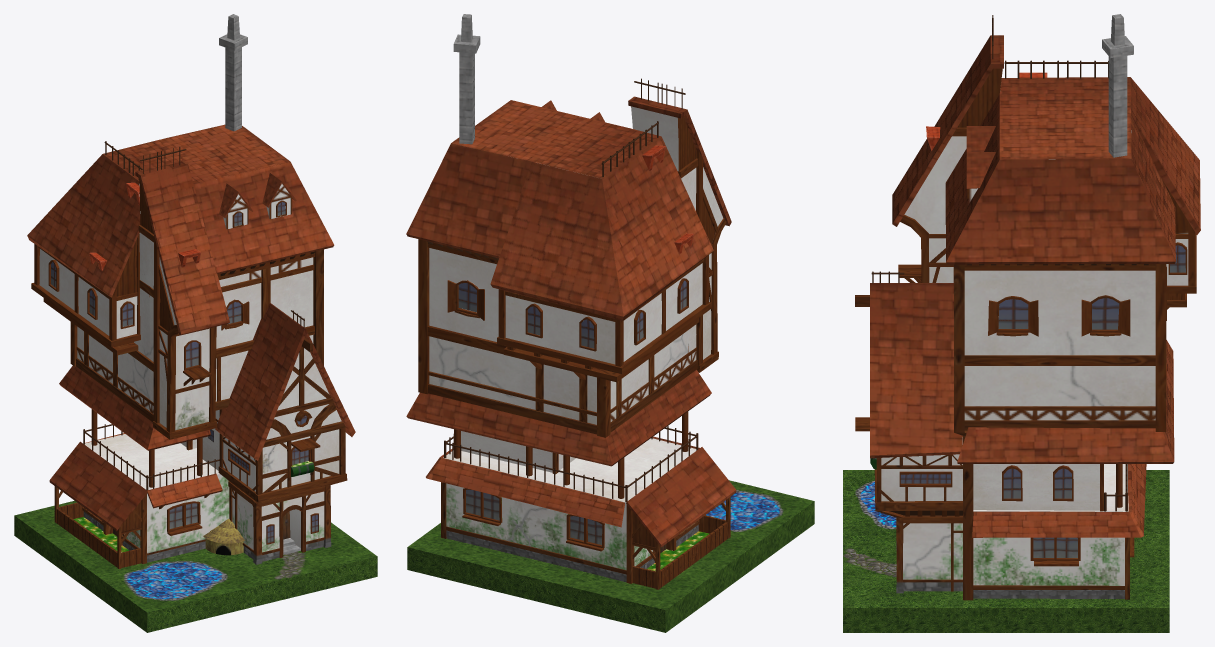
3 views of the same model, side by side, from view 1: azimuth 30°, elevation 25°; view 2: azimuth 150°, elevation 25°; view 3: azimuth 270°, elevation 25° (orthographic). The views are drawn at different scales.
Parts seen in each view (by area): view 1: Object_4, Object_3, Object_2; view 2: Object_4, Object_3, Object_2; view 3: Object_4, Object_3, Object_2.
Boxes of the visible parts, x1,y1,x2,y2 form: Object_4: (27,14,355,568); Object_3: (51,124,339,564); Object_2: (14,500,377,632); Object_4: (406,14,736,589); Object_3: (429,78,726,582); Object_2: (407,480,814,632); Object_4: (855,14,1200,600); Object_3: (870,15,1185,598); Object_2: (843,470,1169,632).
Size of the model in its own units: 24.57 by 49.24 by 26.72.
2 materials, 2 textured.
